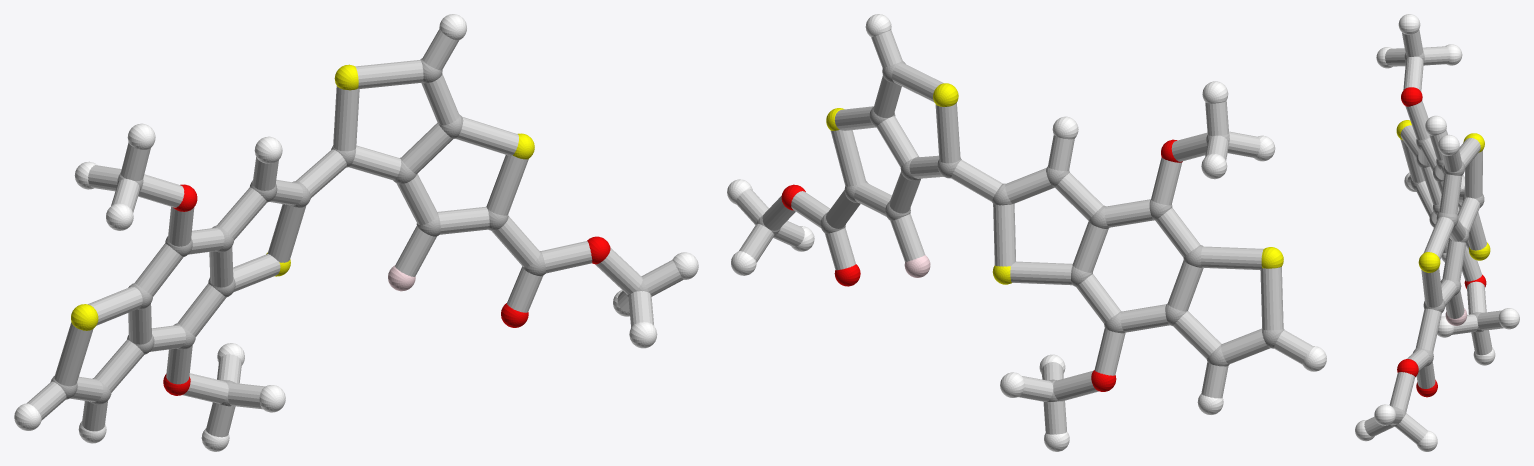
The model's file is color.glb.
3 renders of one model, left to right at view 1: azimuth 30°, elevation 25°; view 2: azimuth 150°, elevation 25°; view 3: azimuth 270°, elevation 25°, orthographic. The views are drawn at different scales.
Parts seen in each view (by area): view 1: grp15205, grp8689, grp1, grp7241, grp13395; view 2: grp15205, grp8689, grp1, grp7241, grp13395; view 3: grp15205, grp8689, grp1, grp13395, grp7241, grp14843.
Boxes of the visible parts, <box> form: grp15205: <box>26,29,683,437</box>; grp8689: <box>14,14,698,451</box>; grp1: <box>50,58,649,406</box>; grp7241: <box>71,64,534,330</box>; grp13395: <box>163,184,610,395</box>; grp15205: <box>736,30,1312,434</box>; grp8689: <box>727,14,1326,451</box>; grp1: <box>756,61,1284,401</box>; grp7241: <box>826,83,1283,284</box>; grp13395: <box>781,139,1182,391</box>; grp15205: <box>1364,29,1503,444</box>; grp8689: <box>1355,14,1519,451</box>; grp1: <box>1390,51,1484,426</box>; grp13395: <box>1397,87,1486,397</box>; grp7241: <box>1396,120,1490,272</box>; grp14843: <box>1445,308,1467,325</box>.
Size of the model in its own units: 16.44 by 9.49 by 4.58.
